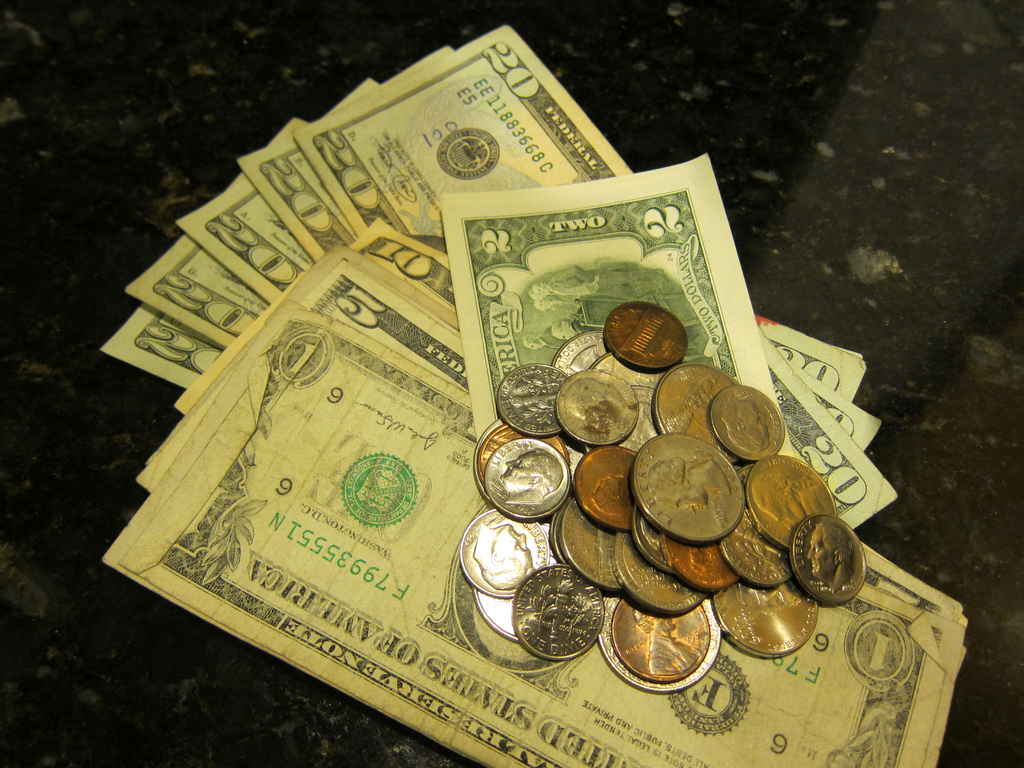Coin: (459, 300, 866, 691)
